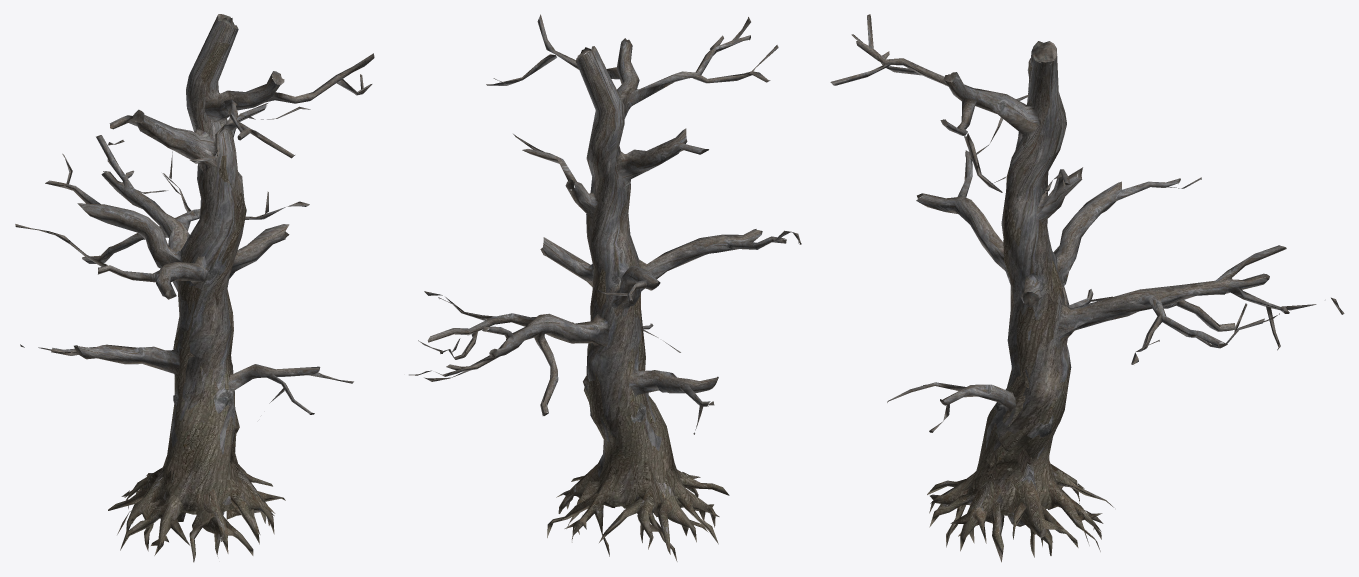
The model's file is quercus-robur-dead-ld-s37.glb.
3 renders of one model, left to right at view 1: azimuth 30°, elevation 25°; view 2: azimuth 150°, elevation 25°; view 3: azimuth 270°, elevation 25°, orthographic. The views are drawn at different scales.
Parts seen in each view (by area): view 1: ForestPlantCatalog_quercus-robur-dead-ld-s37; view 2: ForestPlantCatalog_quercus-robur-dead-ld-s37; view 3: ForestPlantCatalog_quercus-robur-dead-ld-s37.
Boxes of the visible parts, x1,y1,x2,y2 form: ForestPlantCatalog_quercus-robur-dead-ld-s37: (15, 14, 374, 562); ForestPlantCatalog_quercus-robur-dead-ld-s37: (409, 14, 801, 561); ForestPlantCatalog_quercus-robur-dead-ld-s37: (830, 14, 1344, 562).
Size of the model in its own units: 9.66 by 13.5 by 12.19.
Materials: 3 (3 with a texture image).
